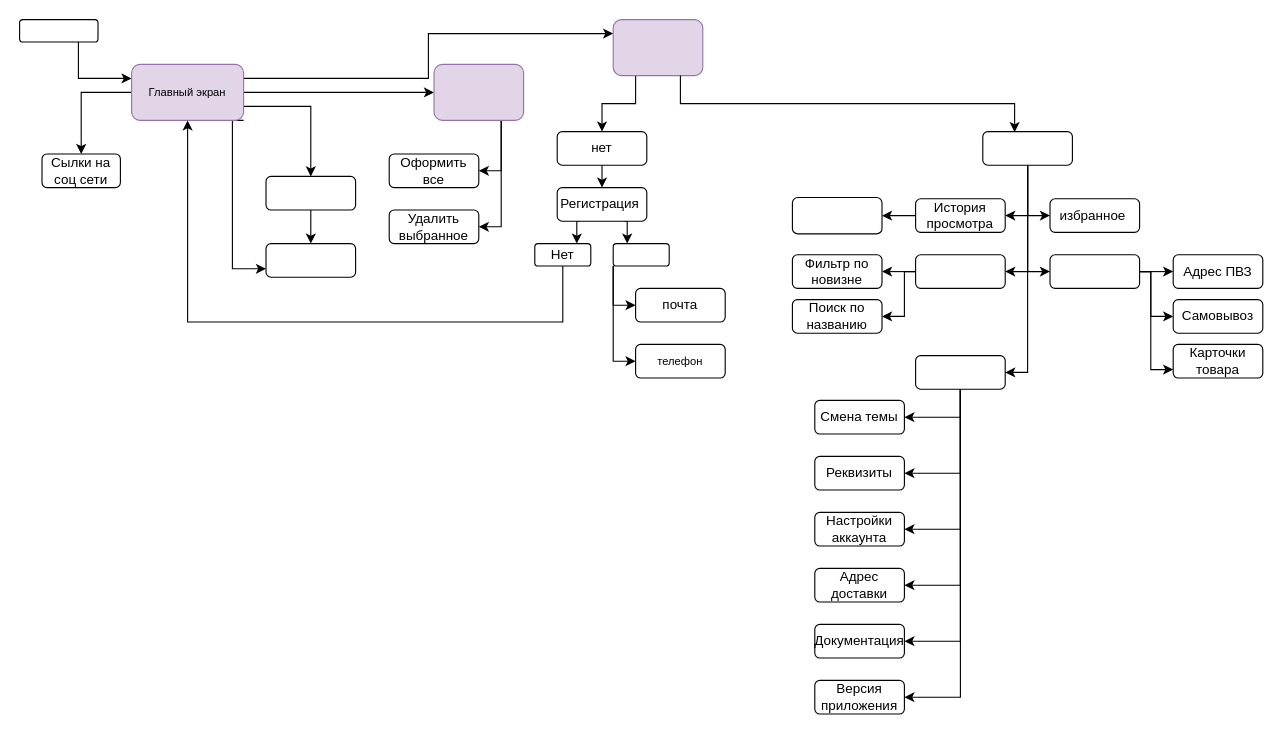
This 1282x734 diagram has some shape labels left out. The centre of each missing label's shape, as x and y in pixels:
Аккаунт: (657,47)
Да: (640,254)
доставка: (1094,271)
есть: (1027,147)
История покупок: (959,271)
Корзина: (478,91)
настройки: (959,371)
Перечень товара: (310,259)
Последние 100 товаров: (836,215)
строка поиска: (310,192)
Экран загрузки: (58,30)
